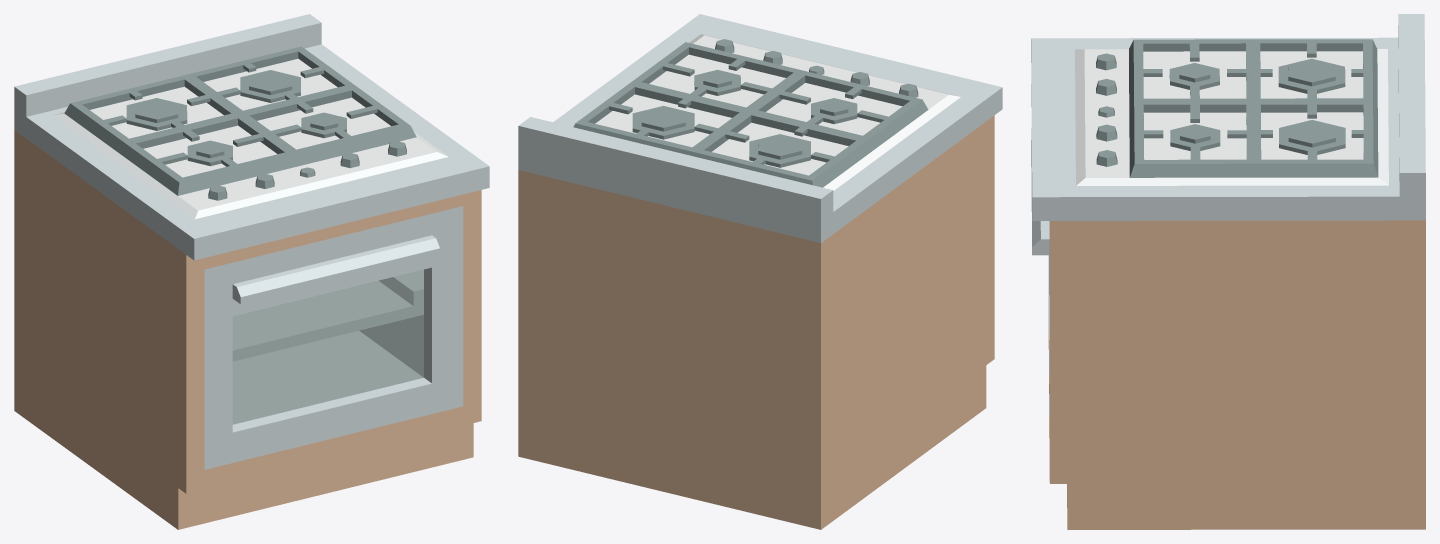
The model's file is burner.glb.
3 renders of one model, left to right at view 1: azimuth 30°, elevation 25°; view 2: azimuth 150°, elevation 25°; view 3: azimuth 270°, elevation 25°, orthographic. The views are drawn at different scales.
Parts seen in each view (by area): view 1: kitchenStove(Clone), door; view 2: kitchenStove(Clone); view 3: kitchenStove(Clone), door.
Boxes of the visible parts, x1=… form: kitchenStove(Clone): x1=14, y1=14, x2=489, y2=529; door: x1=204, y1=206, x2=463, y2=469; kitchenStove(Clone): x1=518, y1=14, x2=1002, y2=529; kitchenStove(Clone): x1=1031, y1=14, x2=1425, y2=529; door: x1=1031, y1=140, x2=1049, y2=417.
Size of the model in its own units: 0.4314 by 0.45 by 0.4514.
